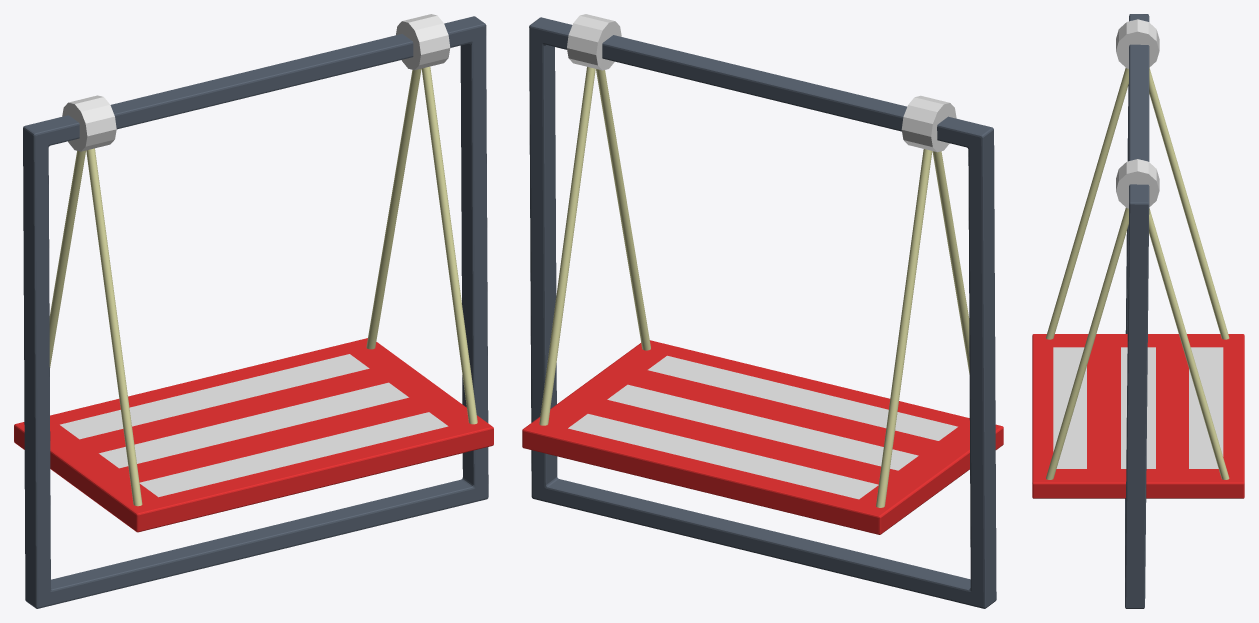
3 views of the same model, side by side, from view 1: azimuth 30°, elevation 25°; view 2: azimuth 150°, elevation 25°; view 3: azimuth 270°, elevation 25° (orthographic). The views are drawn at different scales.
Visible parts, largest first — view 1: pCube43, pPipe2, pCylinder11, pCylinder13, pCylinder14, pCylinder10, pCylinder15, pCylinder12; view 2: pCube43, pPipe2, pCylinder14, pCylinder12, pCylinder13, pCylinder10, pCylinder15, pCylinder11; view 3: pCube43, pPipe2, pCylinder11, pCylinder13, pCylinder12, pCylinder14, pCylinder15, pCylinder10.
Part boxes in pixels (left/top/right/bottom): pCube43: left=14, top=338, right=493, bottom=532; pPipe2: left=23, top=16, right=488, bottom=608; pCylinder11: left=86, top=148, right=142, bottom=506; pCylinder13: left=421, top=66, right=477, bottom=424; pCylinder14: left=366, top=68, right=421, bottom=349; pCylinder10: left=62, top=95, right=116, bottom=151; pCylinder15: left=396, top=14, right=450, bottom=70; pCylinder12: left=49, top=150, right=85, bottom=367; pCube43: left=522, top=340, right=1003, bottom=534; pPipe2: left=529, top=17, right=996, bottom=608; pCylinder14: left=539, top=67, right=595, bottom=425; pCylinder12: left=876, top=149, right=932, bottom=507; pCylinder13: left=596, top=69, right=650, bottom=350; pCylinder10: left=901, top=95, right=956, bottom=152; pCylinder15: left=567, top=14, right=621, bottom=70; pCylinder11: left=932, top=151, right=969, bottom=374; pCube43: left=1032, top=334, right=1244, bottom=498; pPipe2: left=1125, top=14, right=1149, bottom=608; pCylinder11: left=1046, top=68, right=1128, bottom=339; pCylinder13: left=1046, top=208, right=1128, bottom=479; pCylinder12: left=1149, top=68, right=1229, bottom=339; pCylinder14: left=1149, top=208, right=1229, bottom=479; pCylinder15: left=1116, top=159, right=1159, bottom=208; pCylinder10: left=1116, top=19, right=1159, bottom=68.
Size of the model in its own units: 10.49 by 10.84 by 4.96.
